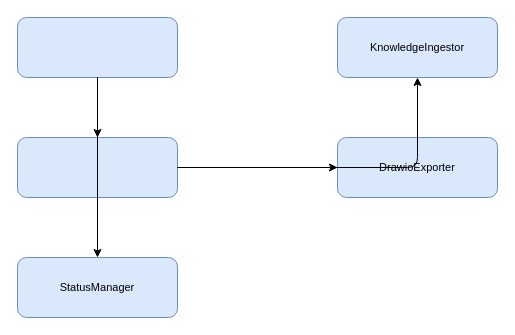
Some shapes in this 515 by 335 pixel diagram are drawn without their labels. Each missing label, with the box of its shape:
BAAgent: (16, 136, 178, 198)
PipelineController: (16, 16, 178, 78)
